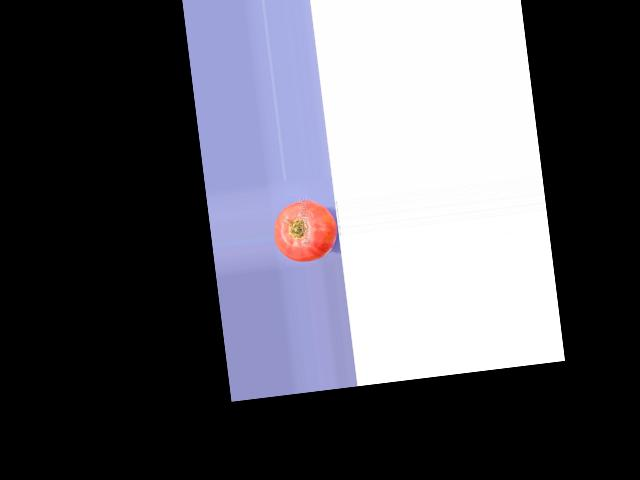tomato: (270, 197, 339, 265)
